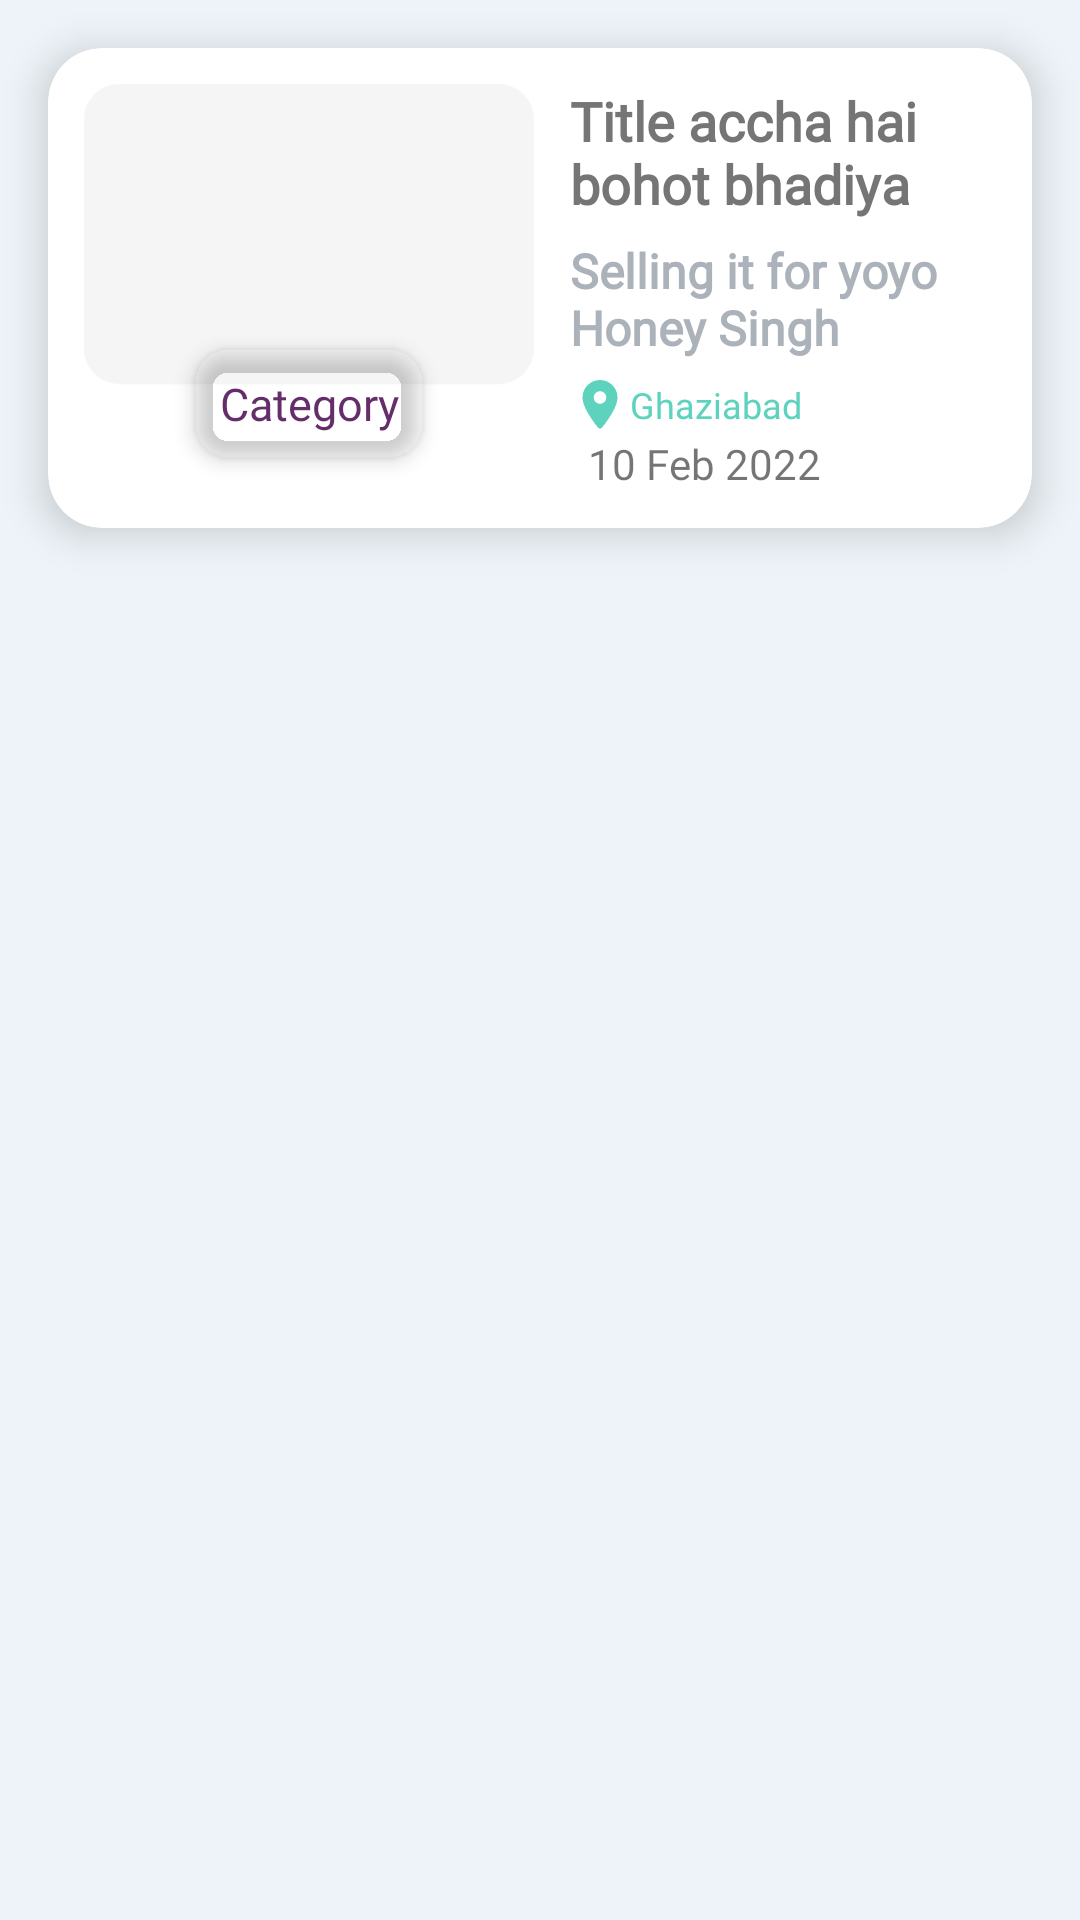

Screen size 1080w x 1920h. Icon name, then its box in pixels as (x1, y1, x2, y2):
location: (582, 380, 618, 429)
